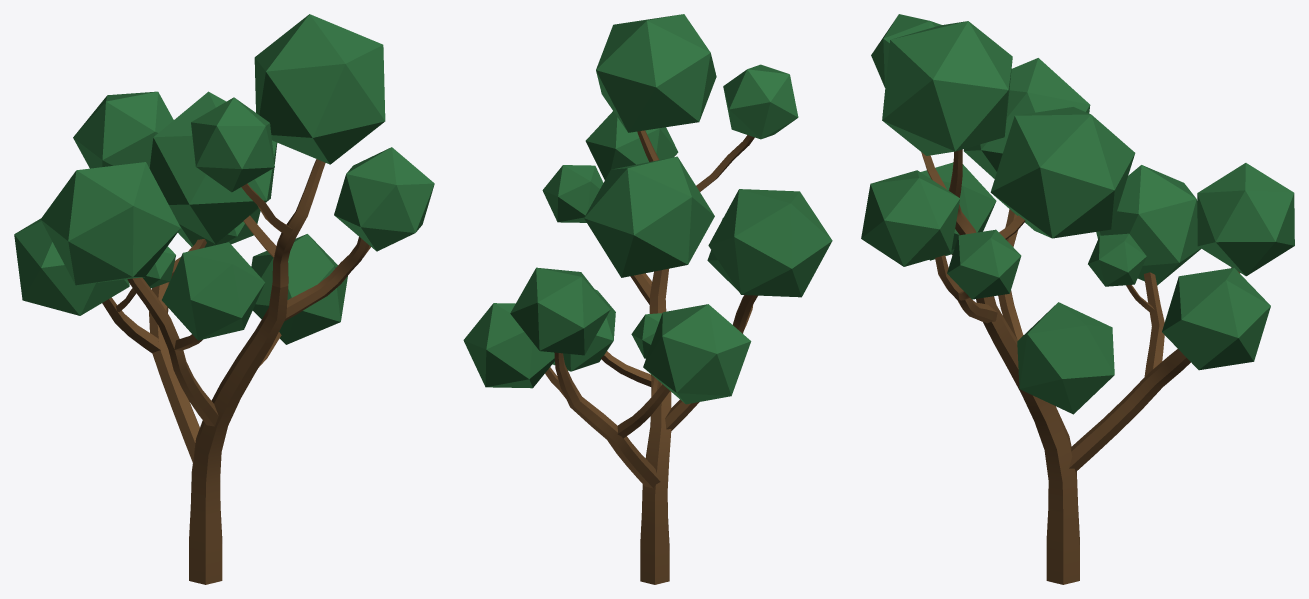
Rendered from TestTree.fbx.
3 views of the same model, side by side, from view 1: azimuth 30°, elevation 25°; view 2: azimuth 150°, elevation 25°; view 3: azimuth 270°, elevation 25° (orthographic). The views are drawn at different scales.
Visible parts, largest first — view 1: pSolid14, Core (×2), pSolid10, pSolid16, pSolid15, pSolid11, pSolid13, pSolid3, pSolid7, pSolid9, SecondBranch, ThirdBranch (+4 smaller); view 2: pSolid14, pSolid16, pSolid10, Core (×2), pSolid7, pSolid3, pSolid6, pSolid13, pSolid15, pSolid12, pSolid9, SecondBranch (+4 smaller); view 3: pSolid14, pSolid16, Core (×2), pSolid3, pSolid6, pSolid9, pSolid15, pSolid7, pSolid10, pSolid12, pSolid8, pSolid11 (+4 smaller).
Part boxes in pixels (box(x1,y1,x2,y2)): pSolid14: box(254, 14, 385, 164); Core (×2): box(149, 159, 325, 584); pSolid10: box(40, 162, 180, 285); pSolid16: box(149, 91, 277, 244); pSolid15: box(334, 147, 434, 251); pSolid11: box(162, 242, 264, 340); pSolid13: box(191, 97, 274, 192); pSolid3: box(73, 91, 173, 168); pSolid7: box(14, 218, 129, 315); pSolid9: box(251, 234, 347, 344); SecondBranch: box(127, 277, 218, 426); ThirdBranch: box(284, 237, 369, 321); pSolid14: box(596, 14, 716, 132); pSolid16: box(584, 156, 714, 277); pSolid10: box(708, 189, 832, 297); Core (×2): box(554, 130, 671, 584); pSolid7: box(643, 304, 751, 404); pSolid3: box(510, 267, 610, 355); pSolid6: box(463, 303, 554, 388); pSolid13: box(723, 64, 798, 139); pSolid15: box(585, 111, 678, 179); pSolid12: box(542, 165, 603, 222); pSolid9: box(552, 289, 615, 371); SecondBranch: box(665, 295, 757, 430); pSolid14: box(882, 21, 1012, 155); pSolid16: box(990, 107, 1135, 238); Core (×2): box(948, 149, 1240, 584); pSolid3: box(1197, 163, 1294, 276); pSolid6: box(1162, 268, 1270, 370); pSolid9: box(1017, 302, 1114, 414); pSolid15: box(861, 170, 960, 266); pSolid7: box(1096, 165, 1201, 285); pSolid10: box(963, 58, 1090, 178); pSolid12: box(947, 229, 1021, 299); pSolid8: box(1088, 233, 1146, 286); pSolid11: box(920, 162, 996, 260).
Bounding box in the file's own units: 0.2051 × 0.3476 × 0.2343.
